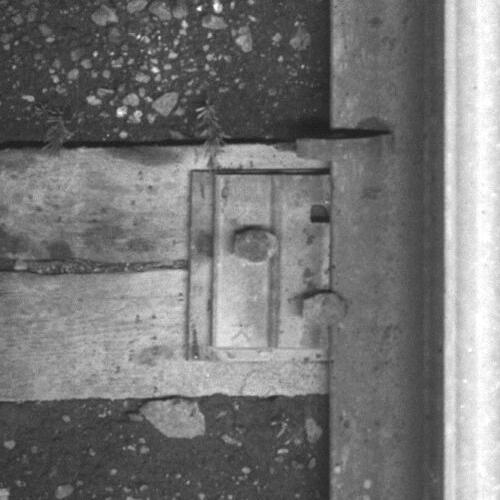crutch: (294, 131, 396, 162)
do: (211, 172, 350, 348)
hole_do: (301, 193, 340, 233)
rail: (442, 1, 500, 500)
tie_wood: (1, 150, 332, 398)
wood_crack: (1, 252, 191, 283)
